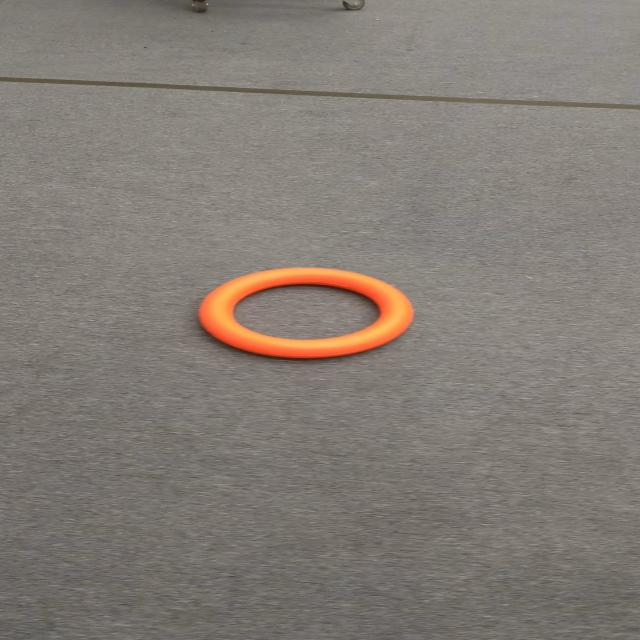note: (194, 258, 412, 351)
